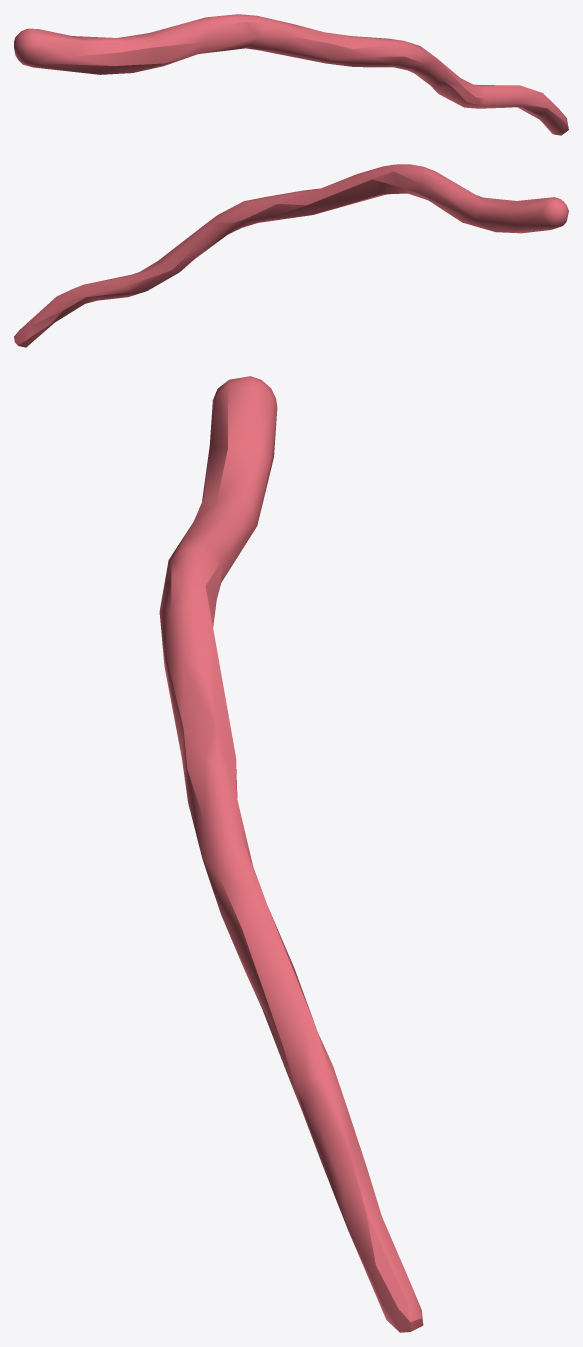
File: fma3818_fj2667.glb
3 renders of one model, top to bottom at view 1: azimuth 30°, elevation 25°; view 2: azimuth 150°, elevation 25°; view 3: azimuth 270°, elevation 25°, orthographic. The views are drawn at different scales.
Parts seen in each view (by area): view 1: FMA3818_FJ2667; view 2: FMA3818_FJ2667; view 3: FMA3818_FJ2667.
Boxes of the visible parts, box(x1,y1,x2,y2) form: FMA3818_FJ2667: box(14, 14, 568, 135); FMA3818_FJ2667: box(14, 164, 568, 347); FMA3818_FJ2667: box(159, 376, 423, 1332).
Size of the model in its own units: 0.0207 by 0.00921 by 0.00463.
